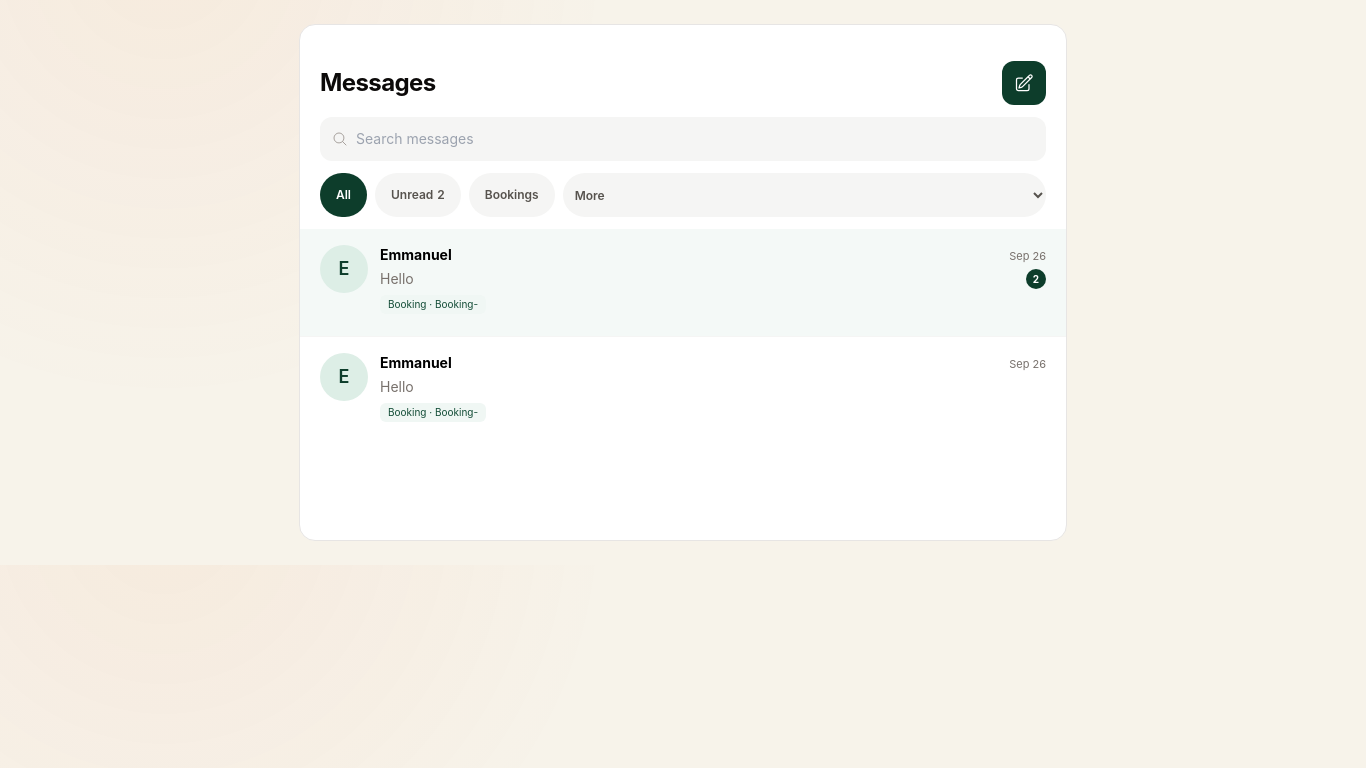
preserves separate threads and filters unread messages
Expected: the text "Emmanuel" is shown 2 times, x1=380 y1=245 x2=452 y2=265; x1=380 y1=353 x2=452 y2=373
Click the button "Unread2".
click(418, 195)  # box x1=375 y1=173 x2=461 y2=217
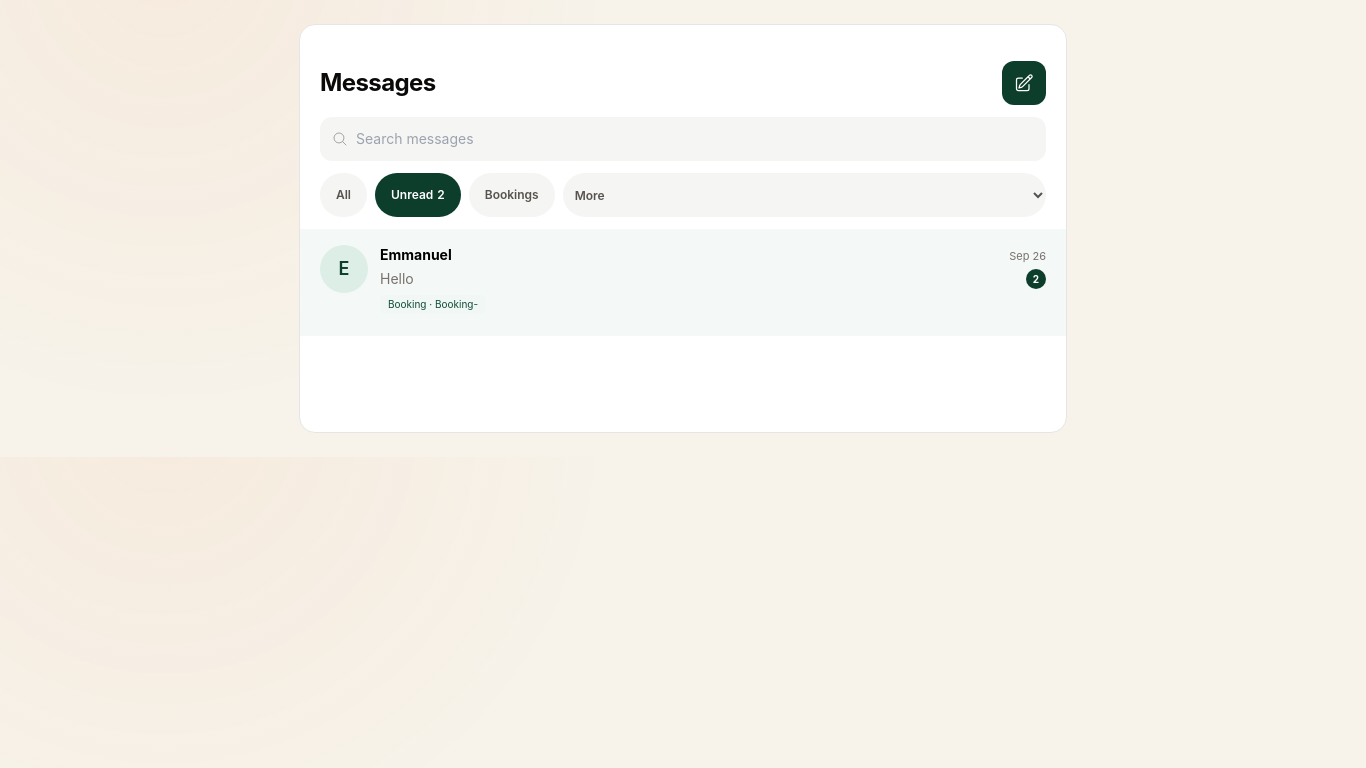
Expected: the text "Emmanuel" is shown once, x1=380 y1=245 x2=452 y2=265
Type "missing" into the field labelled "Search messages".
click(695, 139); type("missing")  # box x1=356 y1=117 x2=1034 y2=161
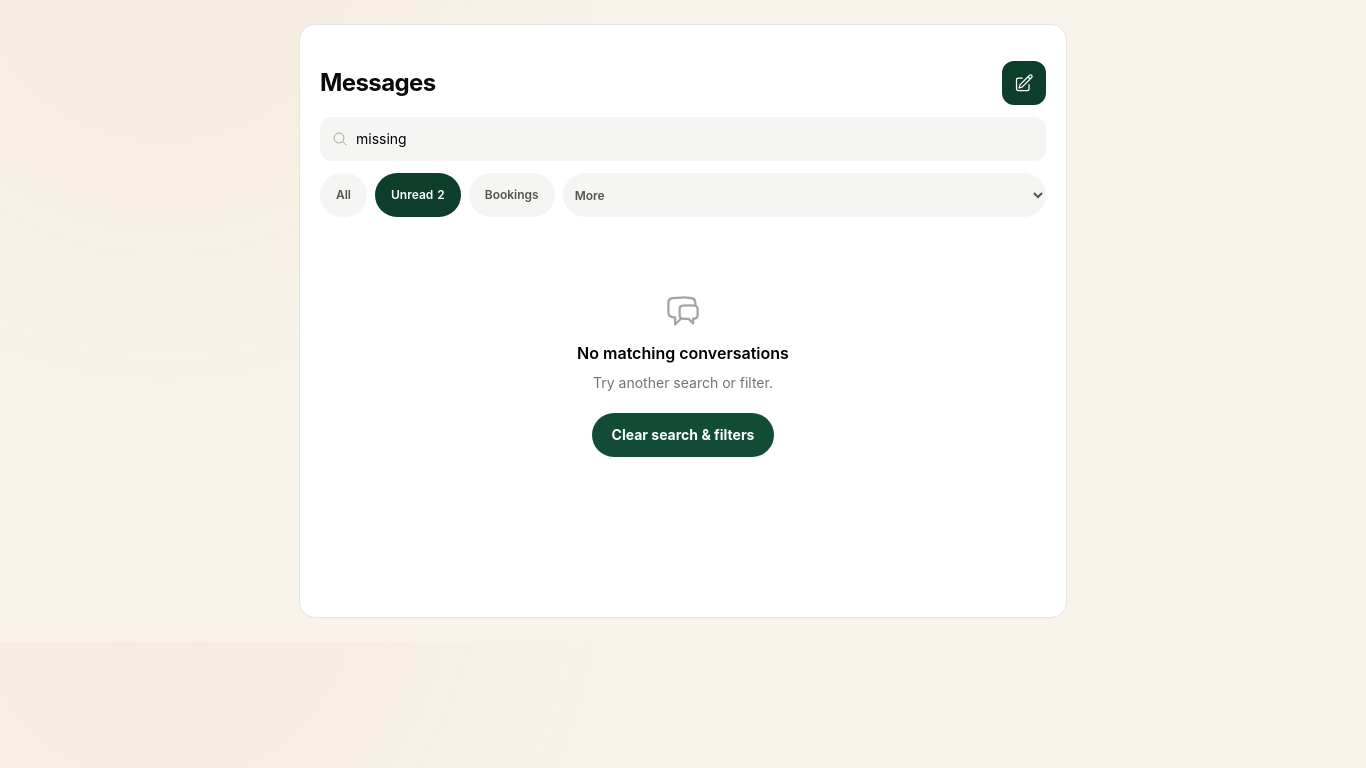
Expected: the text "No matching conversations" is shown, x1=577 y1=343 x2=789 y2=363
Click the button "Clear search & filters".
click(683, 435)  # box x1=592 y1=413 x2=774 y2=457
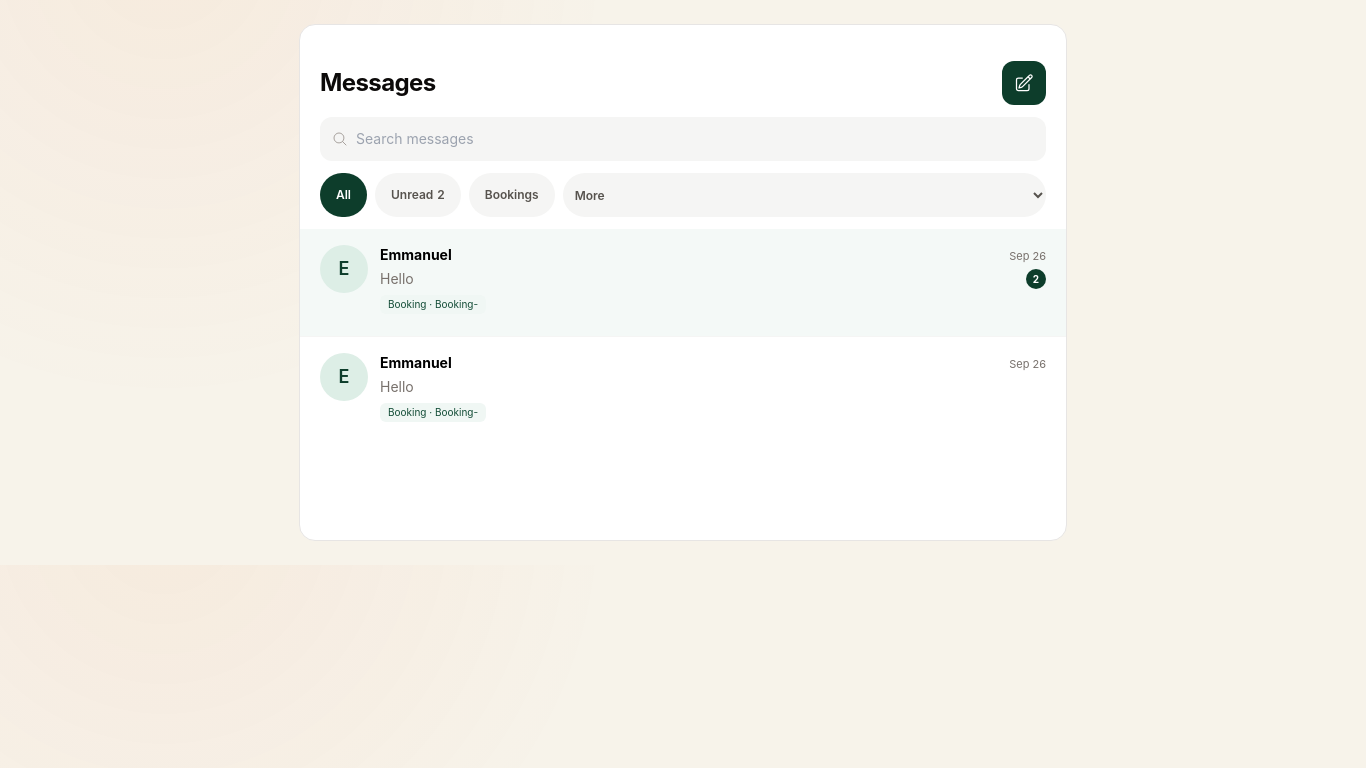
Expected: the text "Emmanuel" is shown 2 times, x1=380 y1=245 x2=452 y2=265; x1=380 y1=353 x2=452 y2=373
